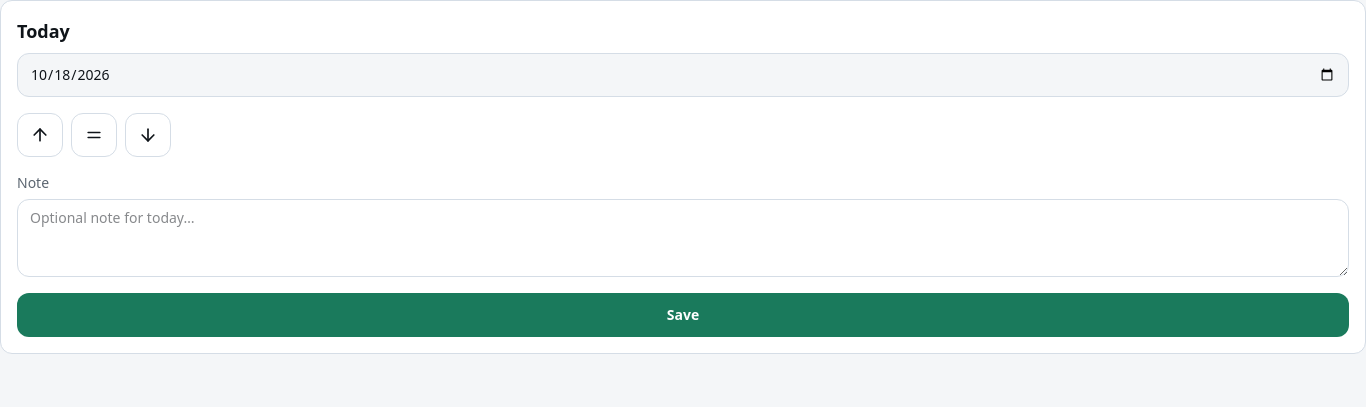
Test: DayEntryPanel › saves a note with the rating via Save
The width and height of the screenshot is (1366, 407).
Click the button named "Up" at (40,135), box [17,113,63,157]
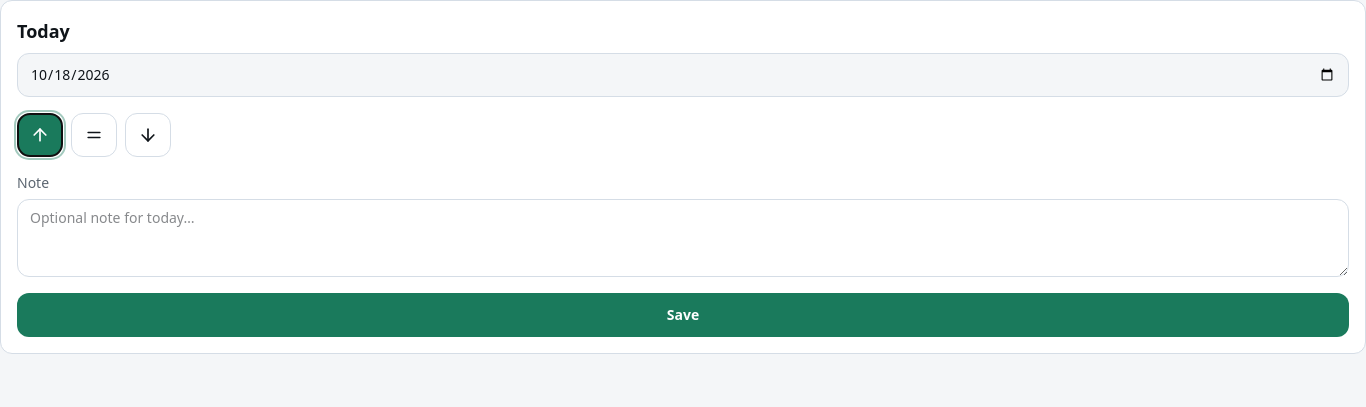
Type "Good focus" into the text box labelled "Note" at (683,238), box [17,199,1349,277]
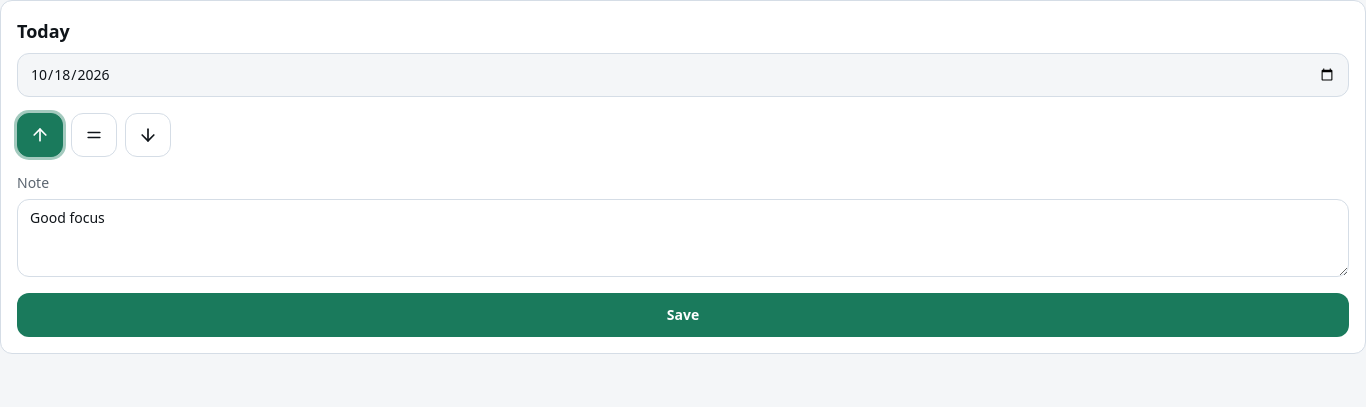
Click the button "Save" at (683,315), box [17,293,1349,337]
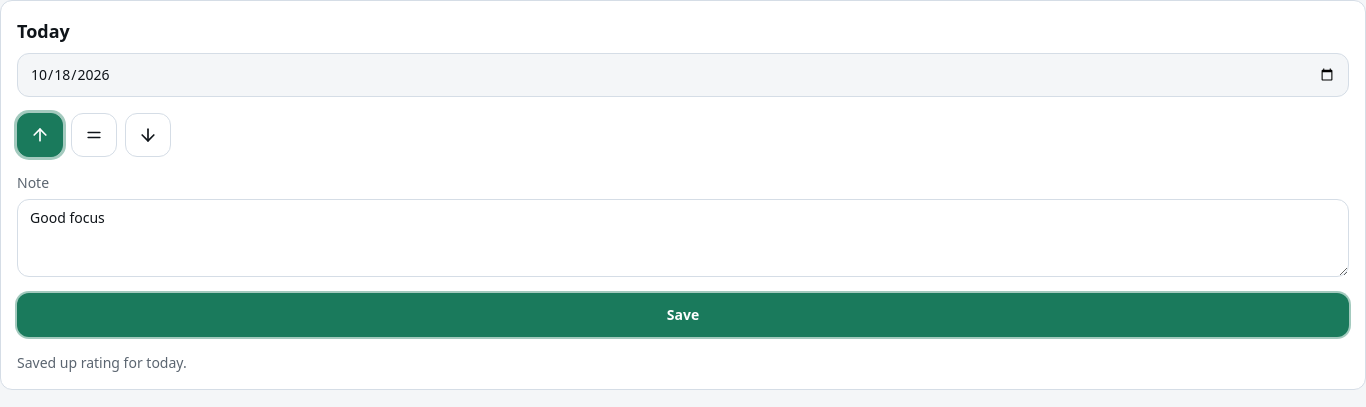
Result: the message shows "Saved up rating" at [17,353,187,372]
